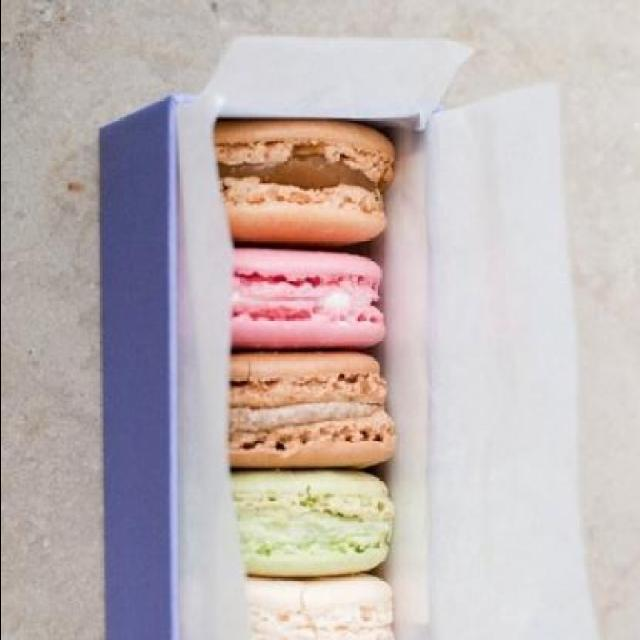Macaron: (198, 122, 412, 640)
